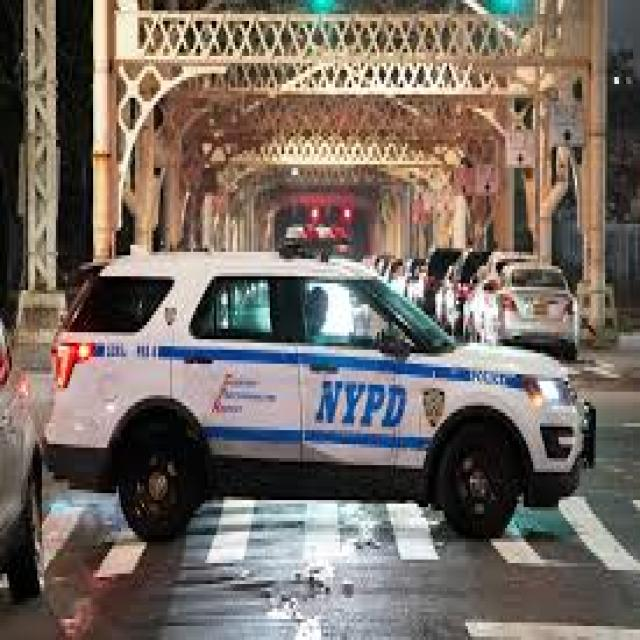cop: (43, 244, 604, 544)
